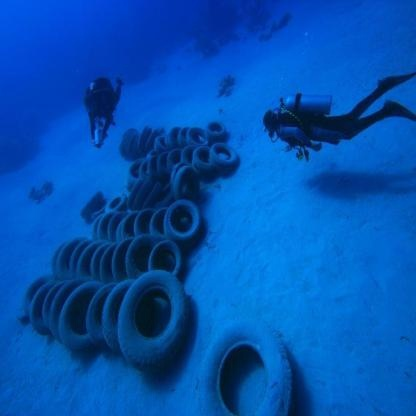tire: (8, 269, 198, 357), (196, 317, 294, 416), (45, 233, 181, 288), (74, 198, 200, 247), (94, 162, 204, 214), (122, 144, 244, 185), (118, 119, 233, 152)
